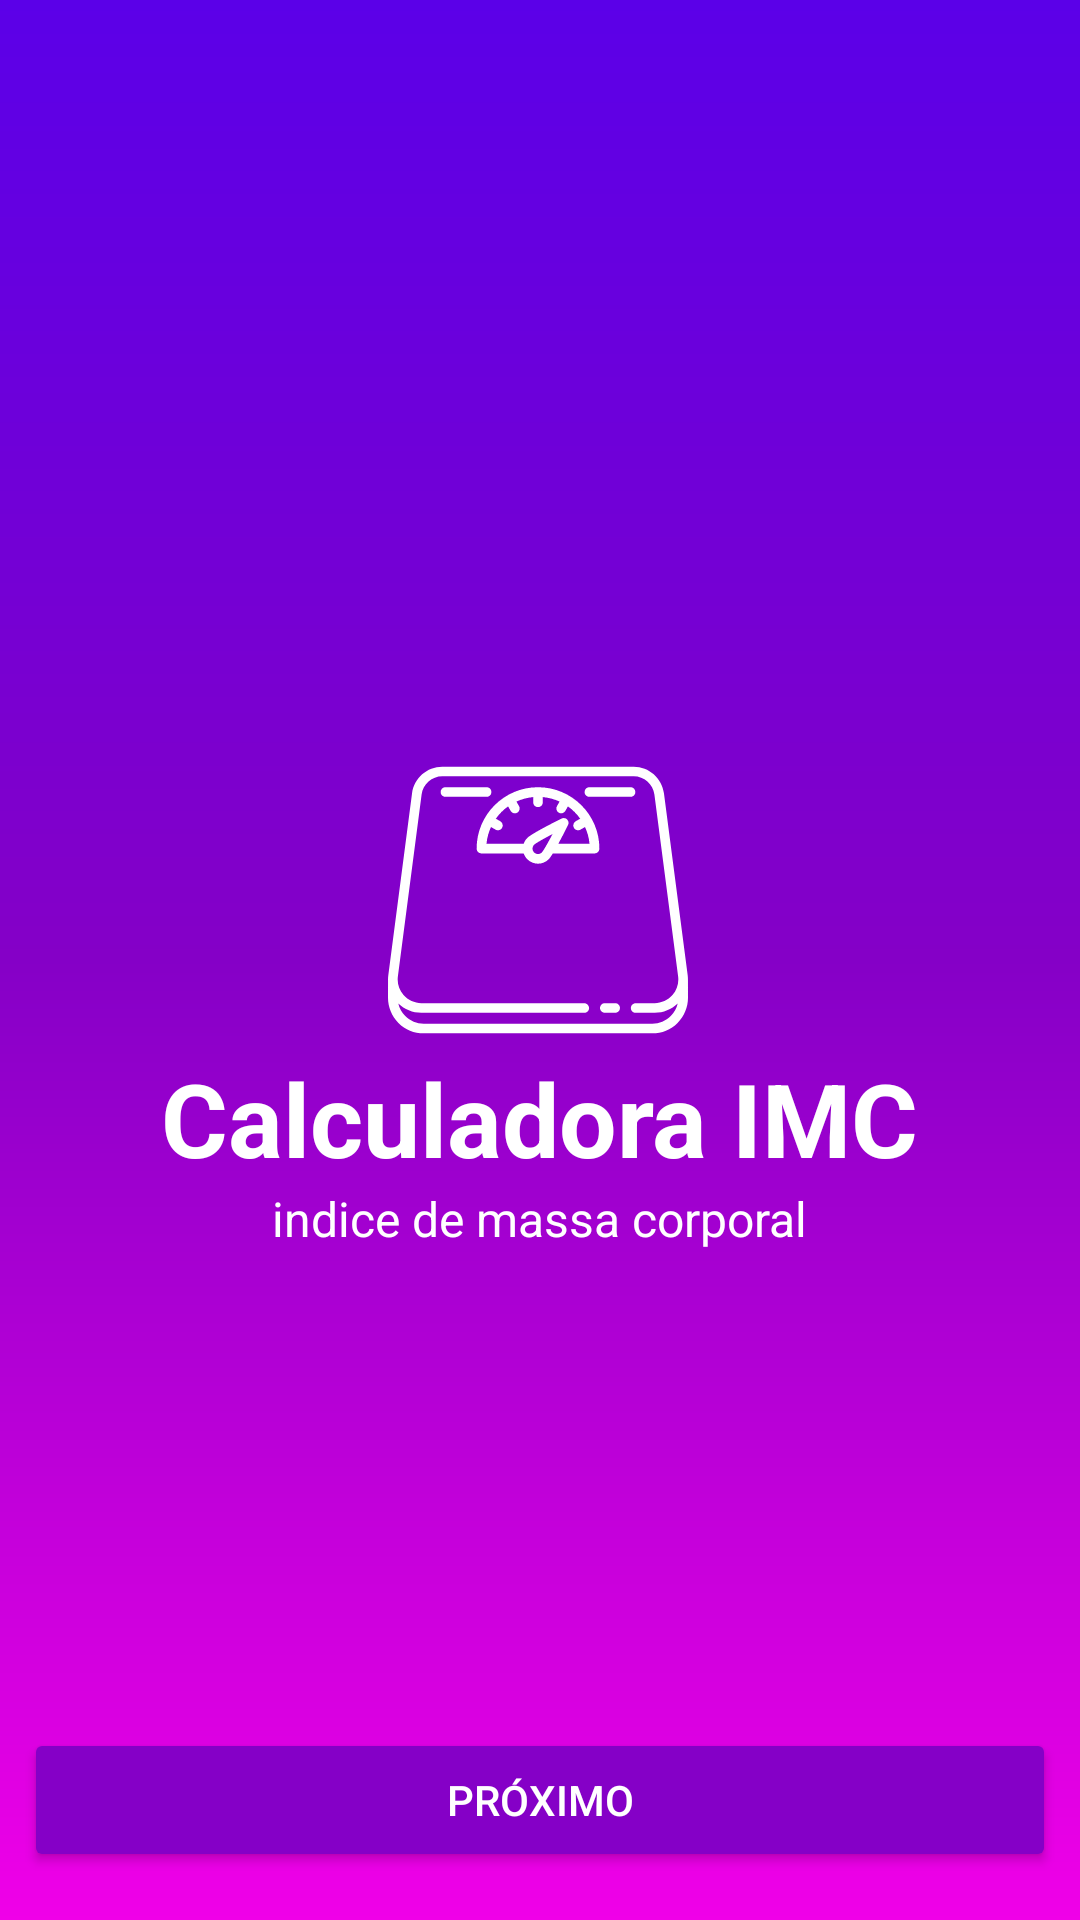

Icon click points for this 1080px x 1920px phone screenshot, format point (x, y):
balanca: point (538, 900)
